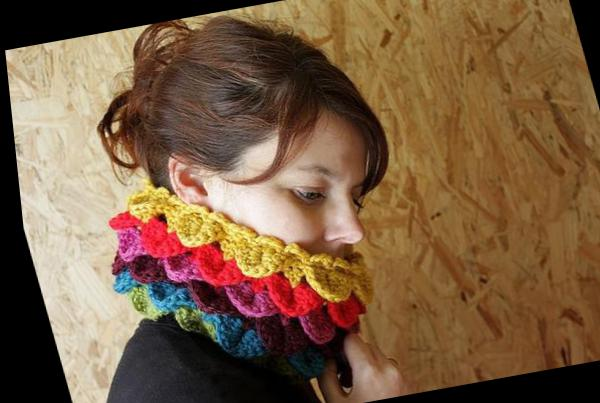WRONG: (175, 141, 394, 344)
